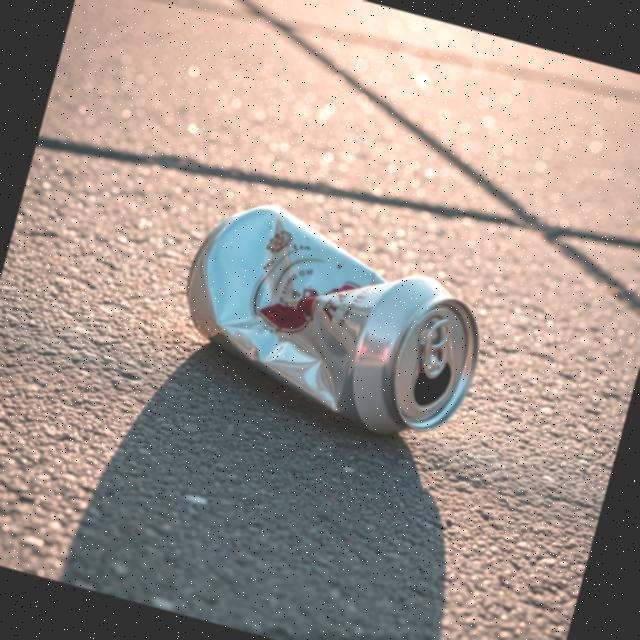aluminum: (156, 184, 506, 458)
